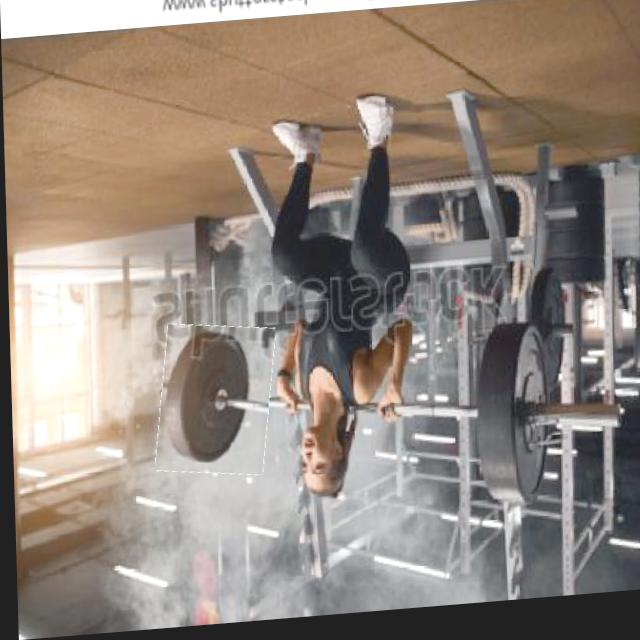barbell: (154, 324, 273, 484)
